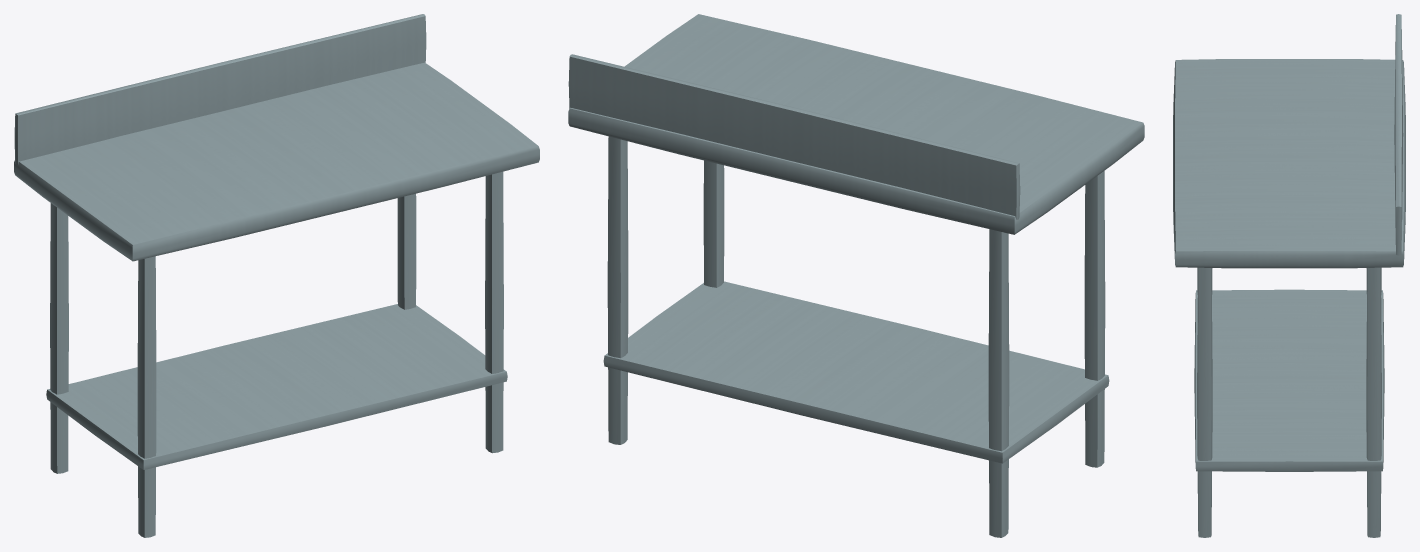
File: stainless-table.glb
The picture shows the model from 3 angles, left to right: view 1: azimuth 30°, elevation 25°; view 2: azimuth 150°, elevation 25°; view 3: azimuth 270°, elevation 25°; orthographic projection. The views are drawn at different scales.
Parts seen in each view (by area): view 1: stainless-table; view 2: stainless-table; view 3: stainless-table.
Boxes of the visible parts, x1,y1,x2,y2 form: stainless-table: (14, 14, 539, 537); stainless-table: (568, 14, 1144, 537); stainless-table: (1173, 14, 1405, 537).
Size of the model in its own units: 1.3 by 1.08 by 0.66.
7 materials, 7 textured.
